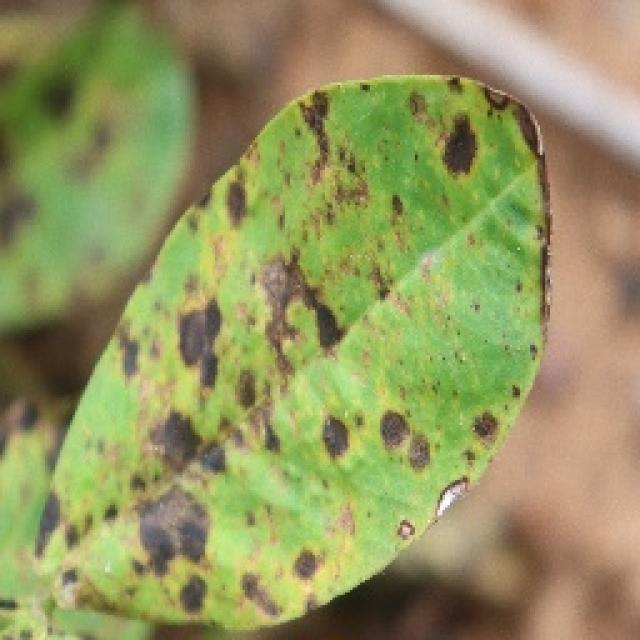Yellowish: (37, 85, 561, 612)
